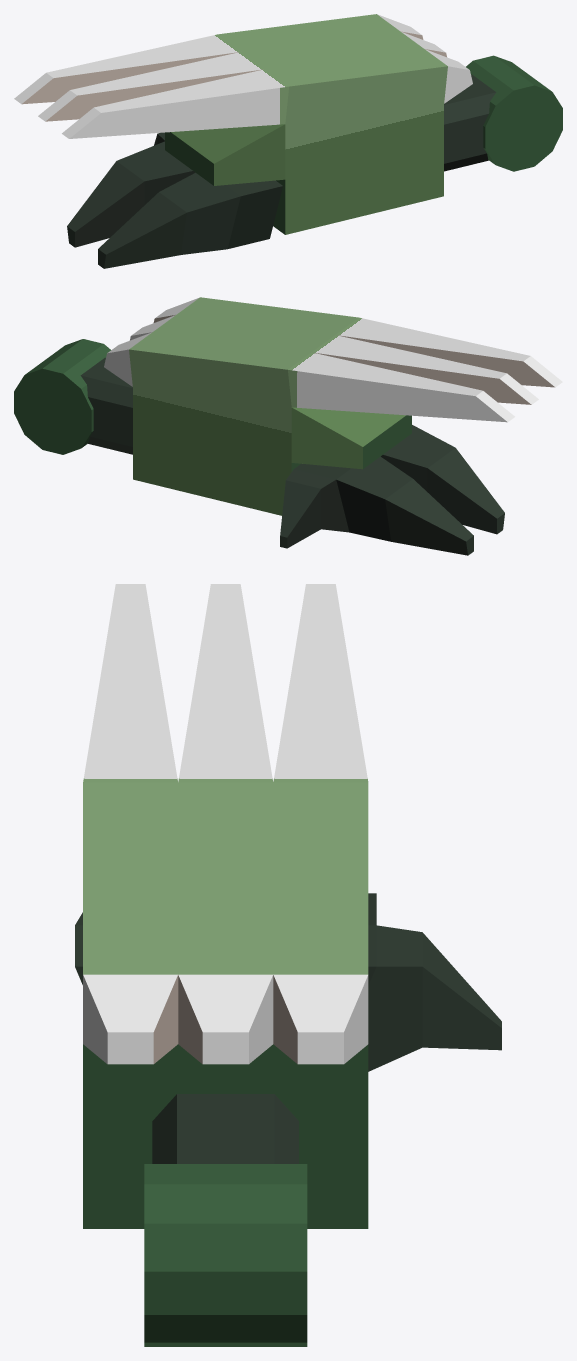
File: TyranusLeftArm.obj
The picture shows the model from 3 angles, top to bottom: view 1: azimuth 30°, elevation 25°; view 2: azimuth 150°, elevation 25°; view 3: azimuth 270°, elevation 25°; orthographic projection. The views are drawn at different scales.
Visible parts, largest first — view 1: Forearm, cuboid, cylinder, Arm; view 2: Forearm, cuboid, cylinder, Arm; view 3: Forearm, cylinder, cuboid, Arm.
Boxes of the visible parts, x1,y1,x2,y2 form: Forearm: (14, 14, 472, 234); cuboid: (67, 132, 282, 268); cylinder: (466, 55, 562, 171); Arm: (444, 74, 496, 171); Forearm: (104, 297, 562, 515); cuboid: (280, 425, 504, 555); cylinder: (14, 339, 110, 454); Arm: (80, 357, 132, 454); Forearm: (83, 584, 368, 1228); cylinder: (144, 1164, 307, 1346); cuboid: (75, 893, 501, 1071); Arm: (152, 1094, 298, 1163).
Bounding box in the file's own units: 0.8871 × 0.2878 × 0.3275.
1 material, 1 textured.
